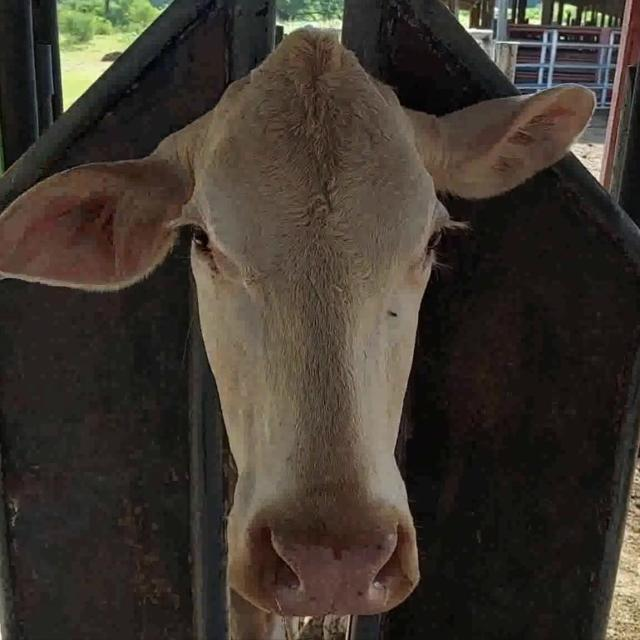cowFace: (192, 31, 446, 618)
